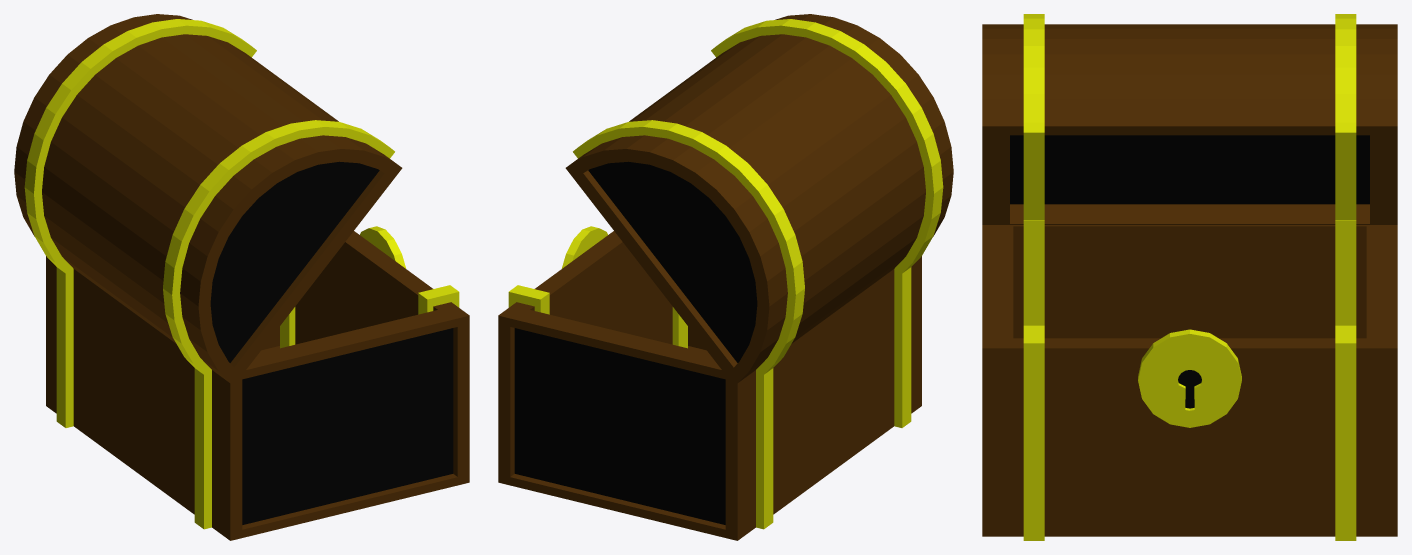
File: coffreouvert.fbx
The picture shows the model from 3 angles, left to right: view 1: azimuth 30°, elevation 25°; view 2: azimuth 150°, elevation 25°; view 3: azimuth 270°, elevation 25°; orthographic projection. The views are drawn at different scales.
Parts seen in each view (by area): view 1: Cube.011, Cylindre.015, Cylindre.023, Cylindre.024, Cube.014, Cube.016, Cube.015, Cylindre.025; view 2: Cube.011, Cylindre.015, Cylindre.023, Cylindre.024, Cube.014, Cube.016, Cube.012, Cylindre.025; view 3: Cube.011, Cylindre.015, Cylindre.025, Cube.012, Cube.015, Cylindre.023, Cylindre.024, Cube.014, Cube.016.
Part boxes in pixels (<box>): Cube.011: <box>46,231,469,540</box>; Cylindre.015: <box>14,14,402,386</box>; Cylindre.023: <box>24,19,256,278</box>; Cylindre.024: <box>163,120,394,379</box>; Cube.014: <box>194,363,211,529</box>; Cube.016: <box>56,267,73,427</box>; Cube.015: <box>418,285,459,314</box>; Cylindre.025: <box>360,226,406,268</box>; Cube.011: <box>498,231,921,540</box>; Cylindre.015: <box>565,14,953,385</box>; Cylindre.023: <box>573,120,804,379</box>; Cylindre.024: <box>711,19,943,273</box>; Cube.014: <box>894,261,911,427</box>; Cube.016: <box>756,364,773,529</box>; Cube.012: <box>508,285,549,314</box>; Cylindre.025: <box>561,226,607,268</box>; Cube.011: <box>982,225,1397,536</box>; Cylindre.015: <box>982,24,1397,224</box>; Cylindre.025: <box>1138,329,1241,427</box>; Cube.012: <box>1335,325,1356,540</box>; Cube.015: <box>1023,325,1044,540</box>; Cylindre.023: <box>1335,14,1356,219</box>; Cylindre.024: <box>1023,14,1044,219</box>; Cube.014: <box>1023,220,1044,325</box>; Cube.016: <box>1335,220,1356,325</box>.
Size of the model in its own units: 360 by 450 by 400.
